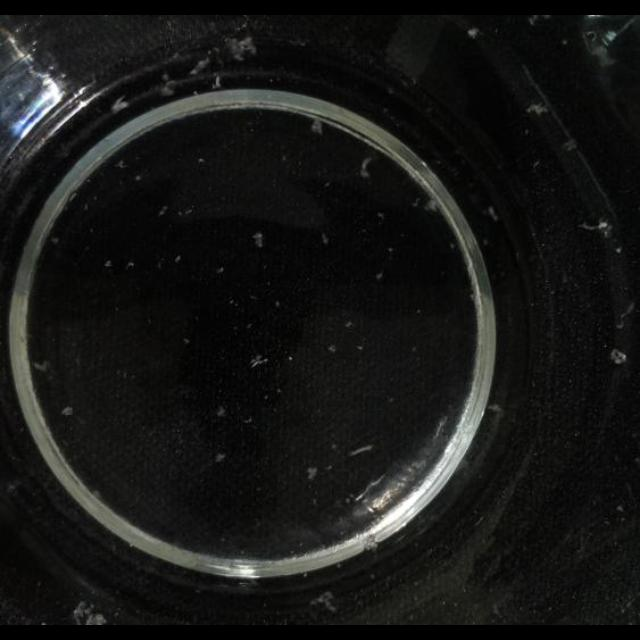Fibre: (224, 34, 258, 64), (73, 600, 107, 624), (310, 590, 338, 614), (188, 54, 212, 78), (578, 218, 610, 234), (523, 96, 545, 118), (348, 444, 374, 456), (111, 96, 129, 112), (361, 156, 374, 178), (424, 198, 440, 214), (159, 82, 175, 98), (249, 354, 267, 368), (310, 118, 324, 136), (486, 402, 504, 414), (251, 232, 263, 248), (32, 360, 48, 372), (562, 139, 578, 151), (212, 75, 222, 89), (216, 406, 228, 416), (322, 232, 330, 244)
microbeads: (325, 336, 339, 356), (610, 348, 626, 364), (178, 205, 195, 217), (487, 206, 498, 222), (60, 404, 74, 416), (306, 466, 318, 480), (372, 268, 384, 280), (468, 27, 480, 38), (214, 452, 226, 463), (158, 204, 168, 216), (68, 192, 78, 204), (116, 160, 128, 168), (344, 321, 354, 329), (174, 254, 182, 264), (50, 236, 60, 244), (242, 416, 252, 424), (125, 261, 134, 269), (388, 395, 397, 403), (216, 266, 224, 274), (104, 259, 112, 267), (183, 337, 191, 345), (377, 212, 385, 220), (134, 174, 142, 182), (615, 246, 623, 254), (616, 505, 624, 513), (330, 442, 338, 450), (198, 158, 206, 165), (356, 344, 364, 351), (324, 180, 331, 188), (469, 292, 476, 300), (274, 299, 280, 307), (288, 354, 294, 362), (388, 245, 394, 252)
